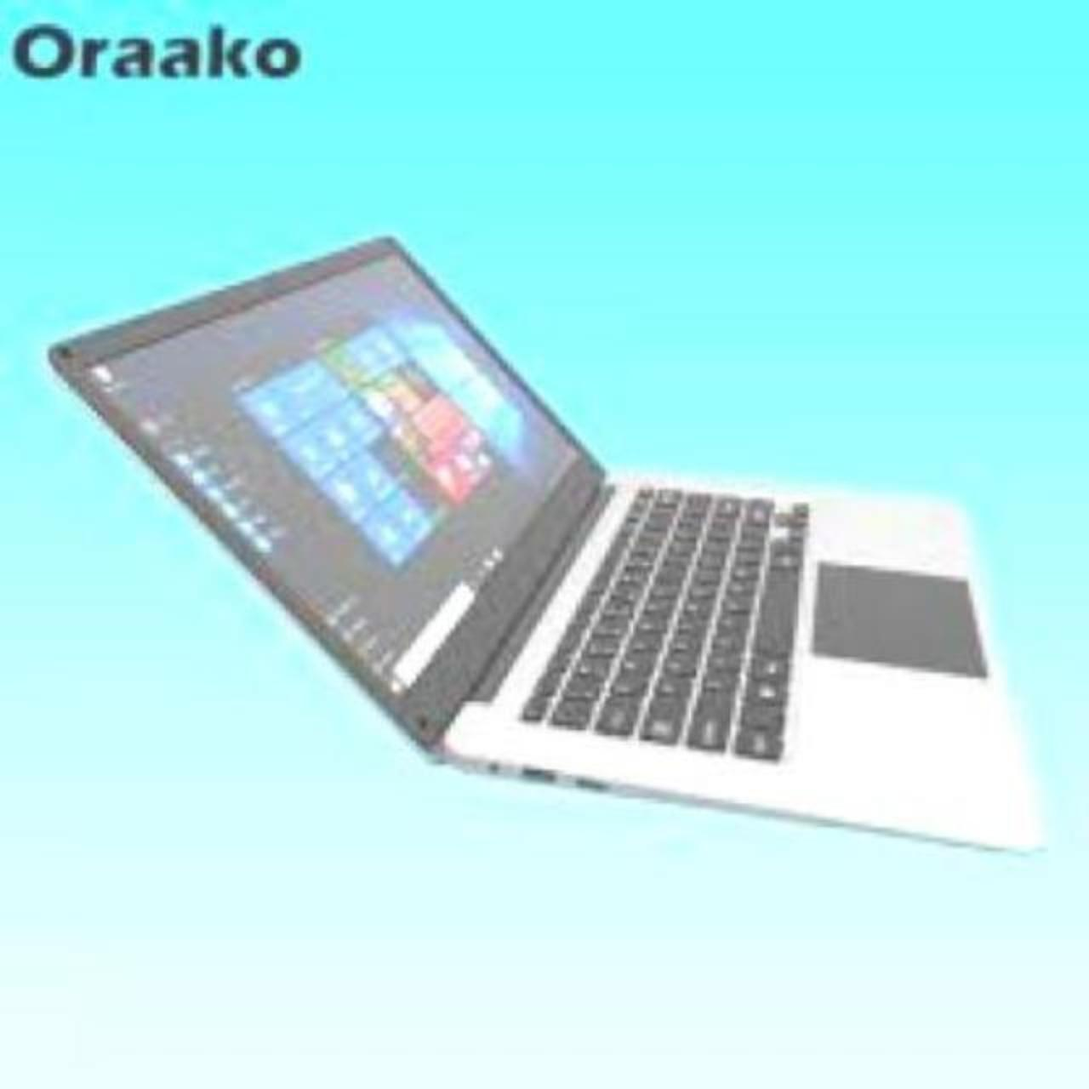laptop: (29, 183, 1060, 889)
